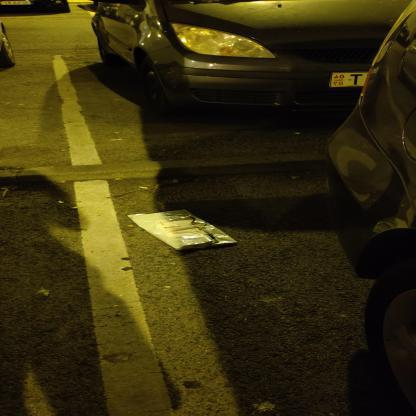plastik: (128, 211, 238, 251)
